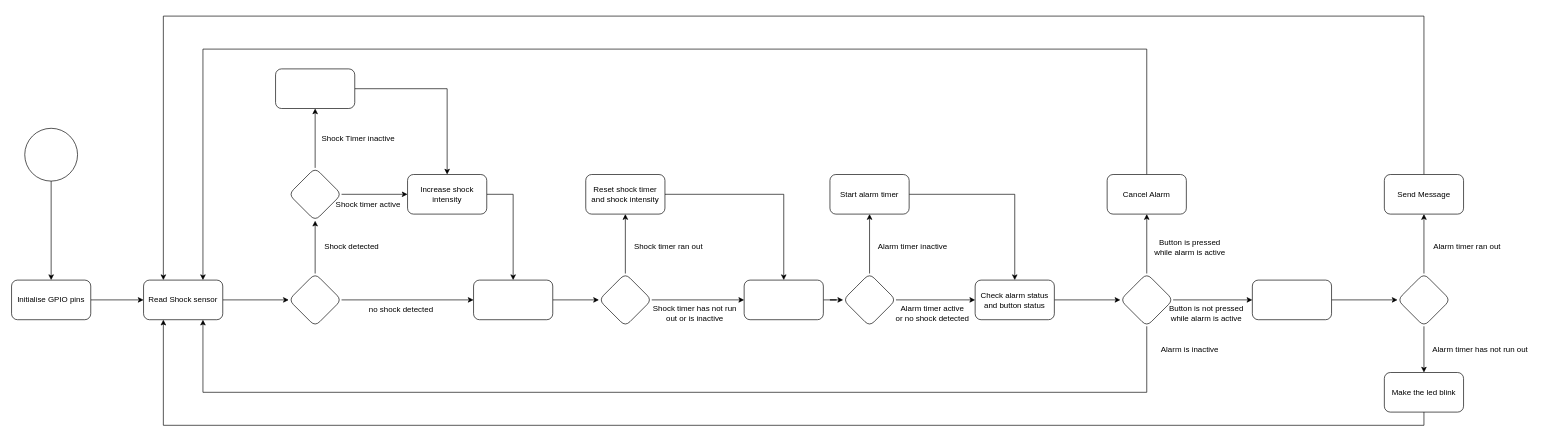
This 1548x442 diagram has some shape labels left out. The centre of each missing label's shape, as x and y in pixels:
Check alarm timer: pixel 1292 299
Check shock intensity: pixel 783 299
Check shock timer: pixel 513 299
Start shock sensor reset timer: pixel 315 88
